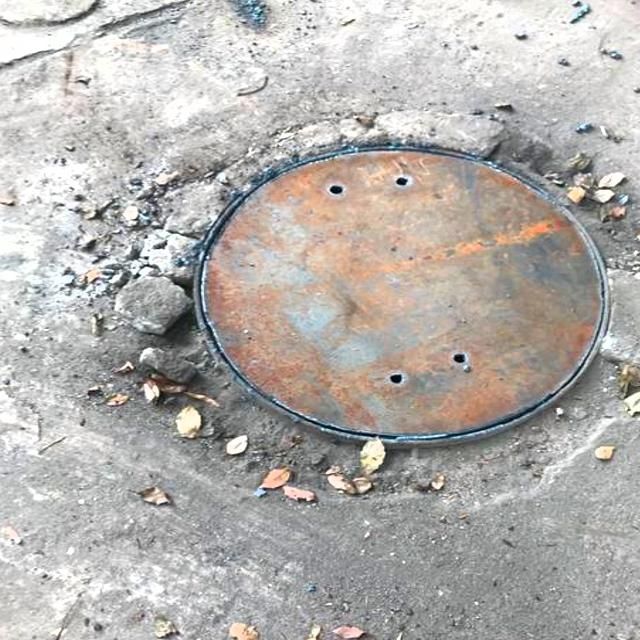circle: (56, 100, 640, 527)
